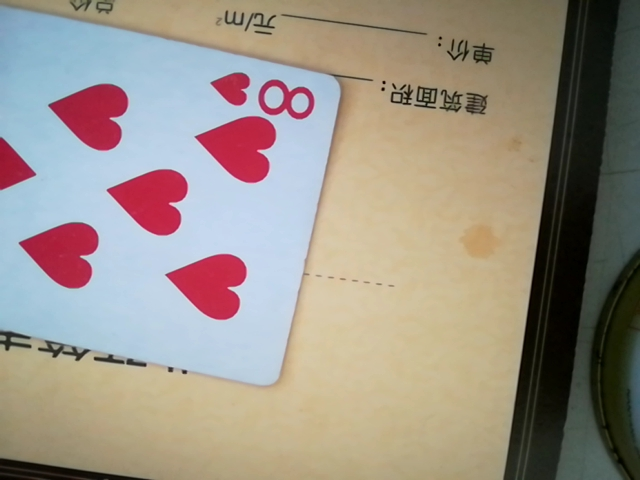hx 8: (0, 0, 349, 383)
